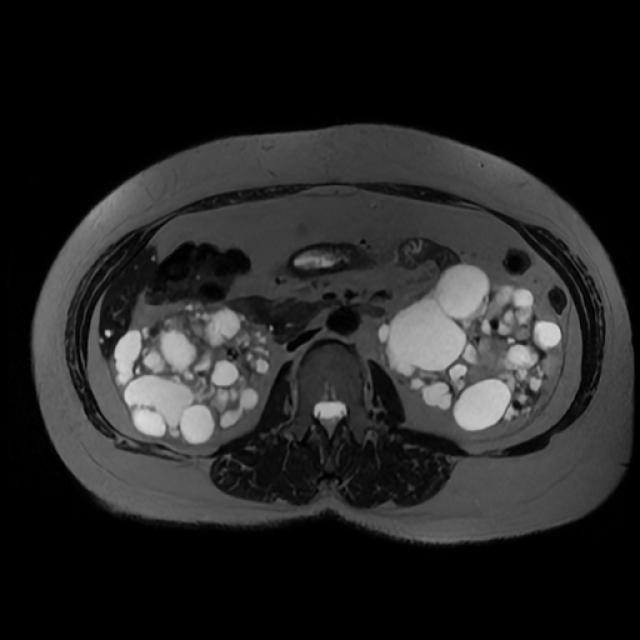sag: (113, 298, 273, 444)
sol: (377, 261, 564, 433)
